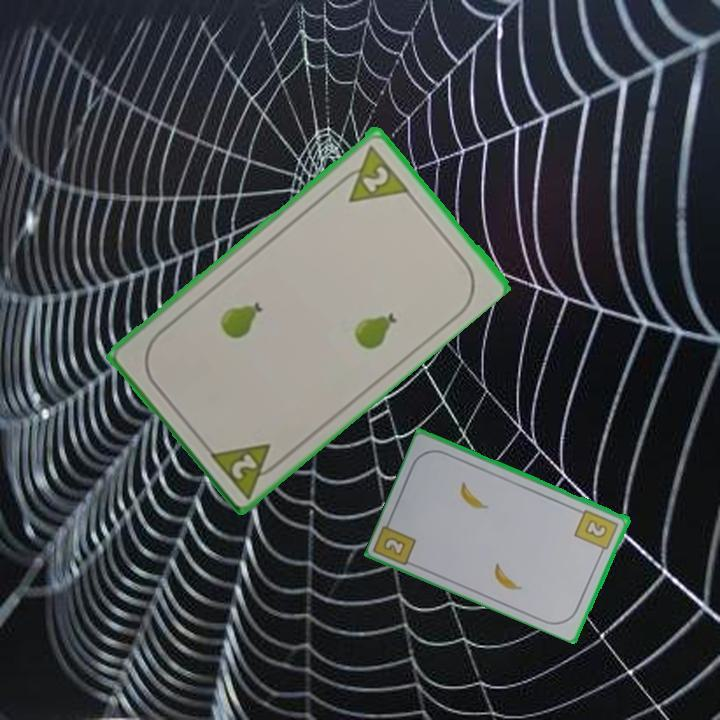2b: (572, 506, 622, 557), (380, 533, 409, 559)
2p: (204, 439, 288, 500), (332, 141, 411, 205)
